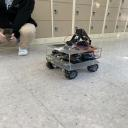cart: (46, 44, 103, 80)
